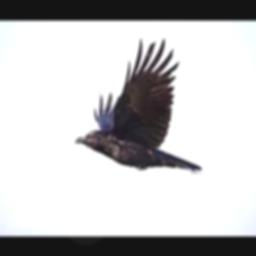Crow: (74, 37, 201, 172)
